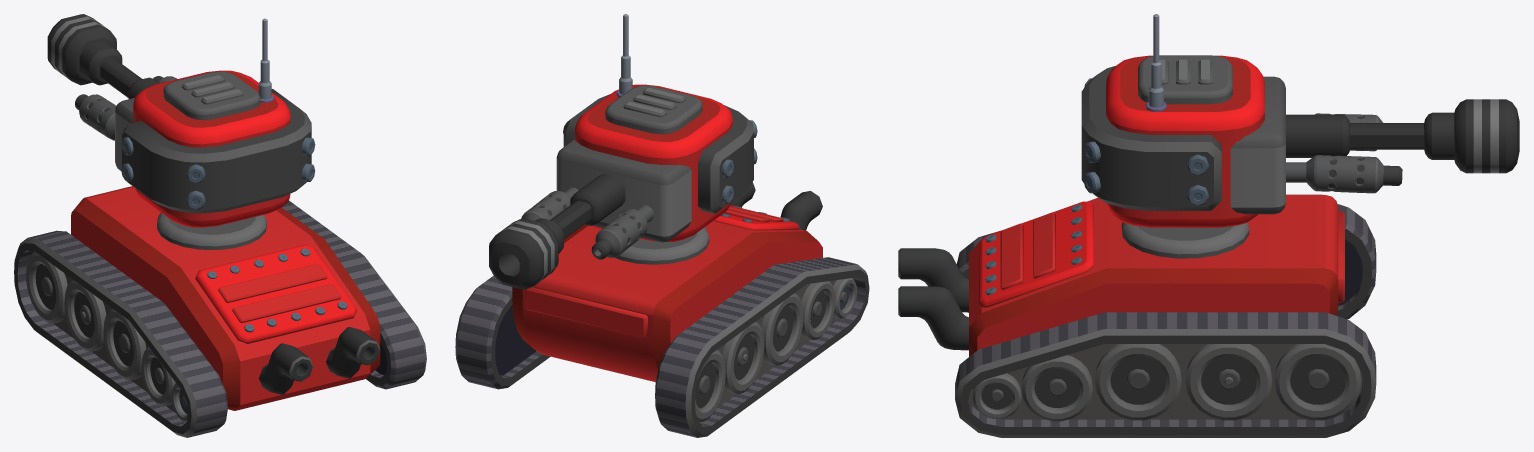
Rendered from Tank_2_F.fbx.
3 views of the same model, side by side, from view 1: azimuth 30°, elevation 25°; view 2: azimuth 150°, elevation 25°; view 3: azimuth 270°, elevation 25° (orthographic). The views are drawn at different scales.
Parts seen in each view (by area): view 1: Tank_2_F, Tank_2_F_T, Tank_2_F_P, Tank_2_F_L; view 2: Tank_2_F, Tank_2_F_T, Tank_2_F_P, Tank_2_F_L, Tank_2_F_R; view 3: Tank_2_F, Tank_2_F_T, Tank_2_F_P, Tank_2_F_R.
Part boxes in pixels (left/top/right/bottom): Tank_2_F: left=14, top=186, right=426, bottom=437; Tank_2_F_T: left=115, top=18, right=315, bottom=249; Tank_2_F_P: left=47, top=14, right=159, bottom=98; Tank_2_F_L: left=75, top=94, right=116, bottom=140; Tank_2_F: left=455, top=182, right=869, bottom=437; Tank_2_F_T: left=556, top=14, right=757, bottom=264; Tank_2_F_P: left=489, top=173, right=625, bottom=289; Tank_2_F_L: left=591, top=205, right=653, bottom=259; Tank_2_F_R: left=521, top=187, right=578, bottom=220; Tank_2_F: left=898, top=194, right=1376, bottom=437; Tank_2_F_T: left=1081, top=14, right=1285, bottom=258; Tank_2_F_P: left=1286, top=99, right=1519, bottom=173; Tank_2_F_R: left=1286, top=155, right=1402, bottom=193.
Size of the model in its own units: 273 by 365 by 538.
